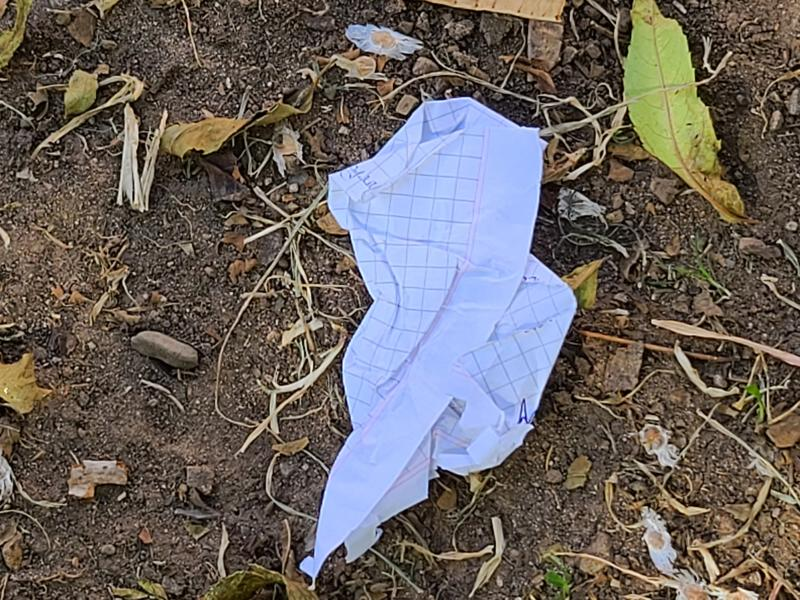papel: (301, 96, 578, 582)
